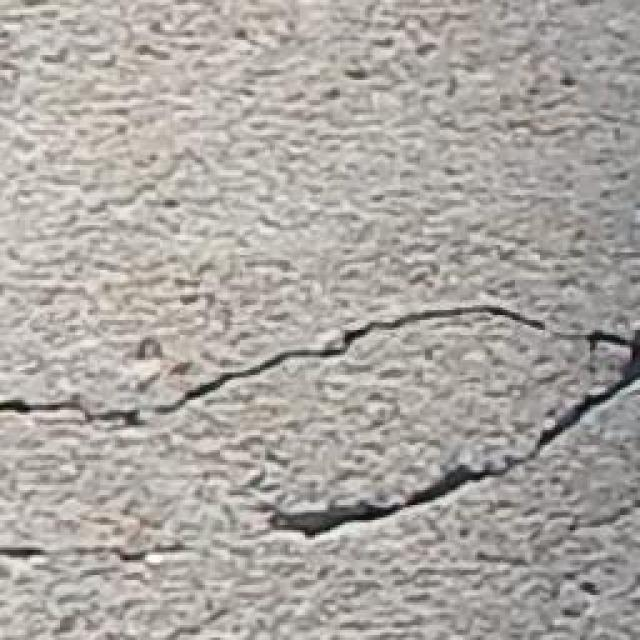concrete-crack: (0, 296, 640, 539)
